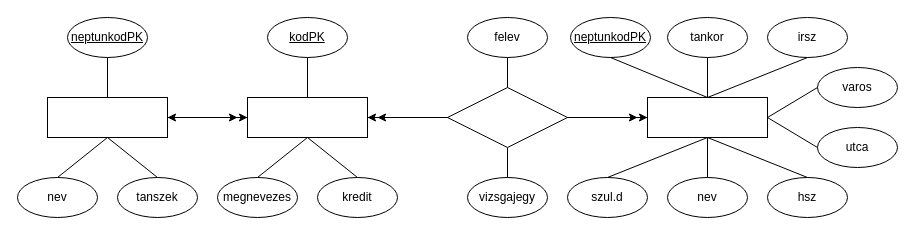
The diagram is 915 pixels wide and 235 high, and some of its shapes have lost their labels. The shapes that lost their labels are listed below. From the top down, each one's centre as x and y in pixels, then its label:
the point at 107,117: Oktato
the point at 307,117: Targy
the point at 507,117: Hallgat
the point at 707,117: Hallgato
